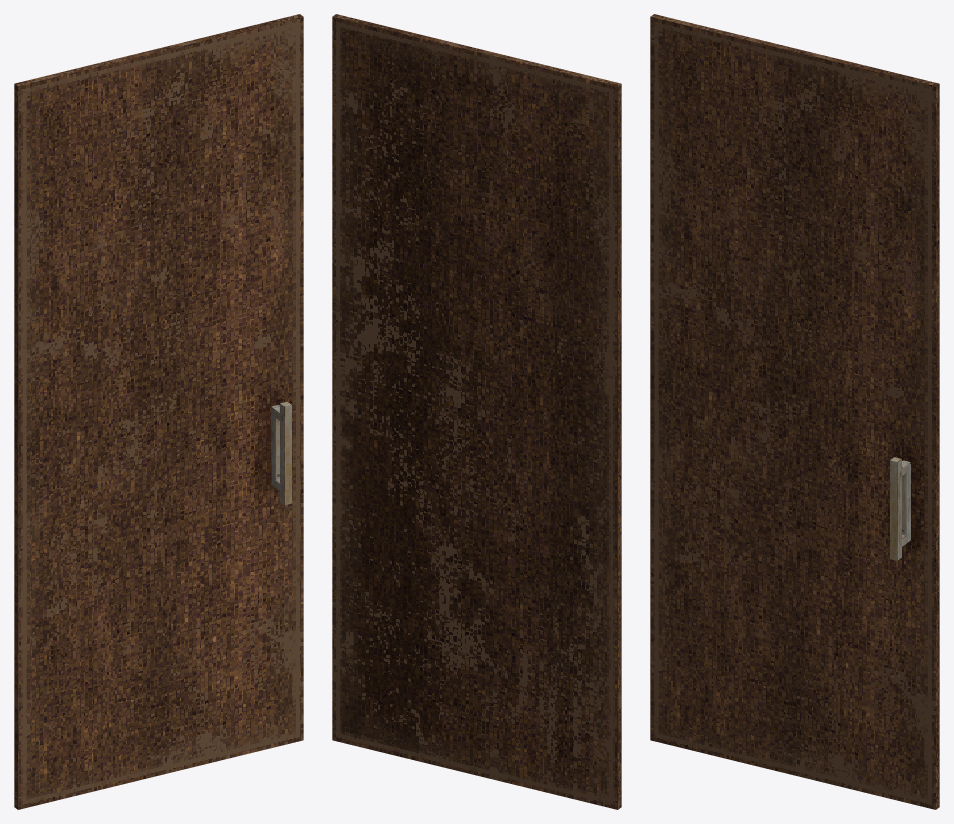
The model's file is Wardrobe_door_Right.glb.
The picture shows the model from 3 angles, left to right: view 1: azimuth 30°, elevation 25°; view 2: azimuth 150°, elevation 25°; view 3: azimuth 330°, elevation 25°; orthographic projection.
Parts seen in each view (by area): view 1: Cube.269; view 2: Cube.269; view 3: Cube.269.
Part boxes in pixels (x1,y1,x2,y2): Cube.269: (14,14,303,809); Cube.269: (332,14,621,809); Cube.269: (650,14,939,809).
Bounding box in the file's own units: 0.4509 × 1.09 × 0.0469.
1 material, 1 textured.
